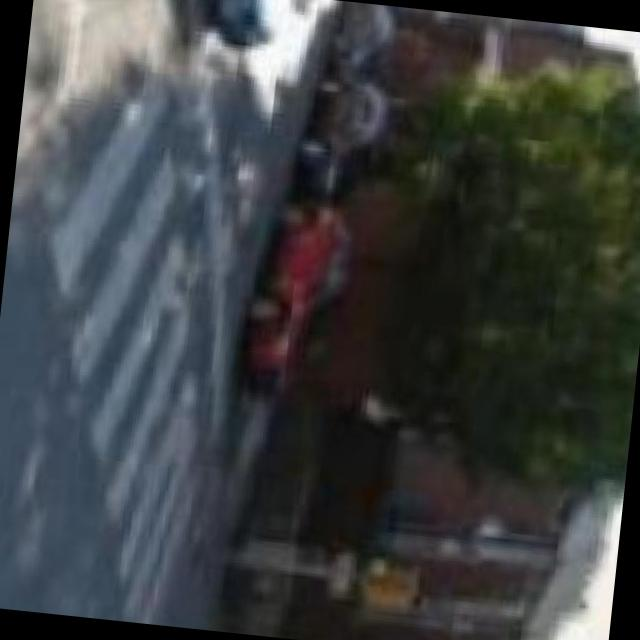zebra: (25, 0, 231, 624)
